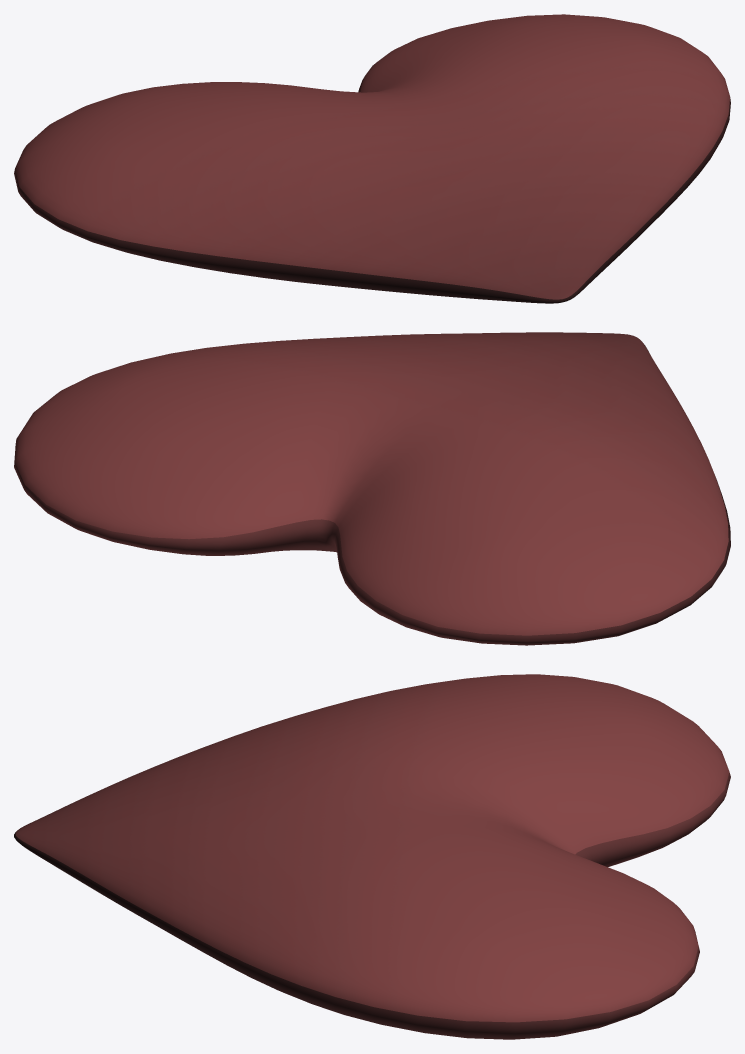
Rendered from heart.glb.
The picture shows the model from 3 angles, top to bottom: view 1: azimuth 30°, elevation 25°; view 2: azimuth 150°, elevation 25°; view 3: azimuth 270°, elevation 25°; orthographic projection. The views are drawn at different scales.
Parts seen in each view (by area): view 1: cc_t_heart7; view 2: cc_t_heart7; view 3: cc_t_heart7.
Boxes of the visible parts, <box> form: cc_t_heart7: <box>14,14,730,303</box>; cc_t_heart7: <box>14,332,730,645</box>; cc_t_heart7: <box>14,674,730,1039</box>.
Size of the model in its own units: 0.0787 by 0.0151 by 0.0683.
1 material, 1 textured.
